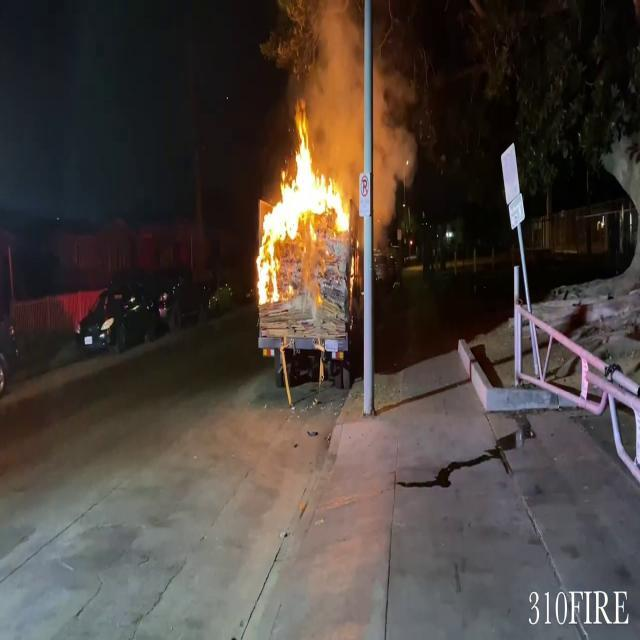Fire: (250, 98, 358, 304)
Smoke: (315, 1, 414, 230)
